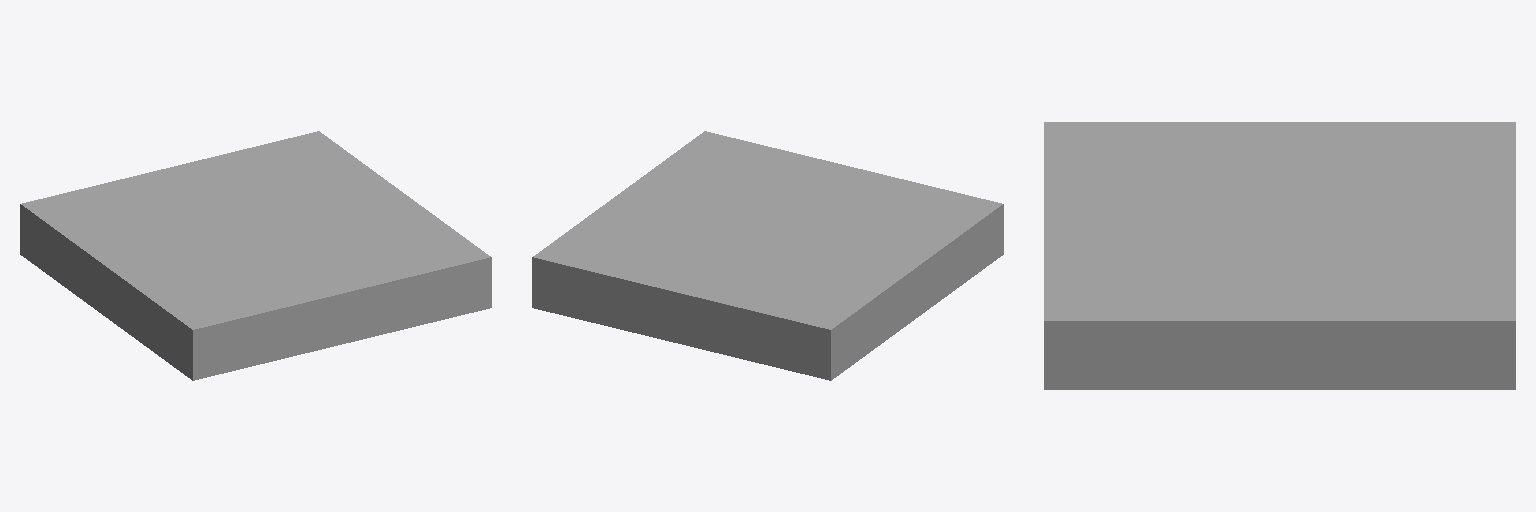
The robot description file, URDF, robot "mounting_plate":
<?xml version="1.0" ?>
<robot name="mounting_plate">
    <material name="aluminium">
        <color rgba="0.70 0.70 0.70 1"/>
    </material>

    <link name="base_link"/>

    <!--    Define the mounting plates for the robot arms-->
    <link name="mounting_plate_link">
        <visual>
            <origin xyz="0 0 0" rpy="0 0 0"/>
            <geometry>
                <box size="0.215 0.215 0.035"/>
            </geometry>
            <material name="aluminium"/>
        </visual>
        <collision>
            <origin xyz="0 0 0" rpy="0 0 0"/>
            <geometry>
                <box size="0.215 0.215 0.035"/>
            </geometry>
        </collision>
        <inertial>
            <mass value="1.0"/>
        </inertial>
    </link>

    <joint name="base_link_2_mounting_plate" type="fixed">
        <parent link="base_link"/>
        <child link="mounting_plate_link"/>
        <origin xyz="0 0 0.0175" rpy="0 0 0"/>
        # We also push out the origin to make that if we mount the plate, we are mounting it at the bottom
    </joint>

    <!--    Virtual frame -->
    <link name="plate_top_centre"/>

    <joint name="base_link_2_top_centre" type="fixed">
        <parent link="base_link"/>
        <child link="plate_top_centre"/>
        <origin xyz="0 0 0.0175" rpy="0 0 0"/>
    </joint>
</robot>

--- What the picture shows (computed from the rendered views, not written in the file) ---
The picture shows the robot from 3 angles, left to right: view 1: azimuth 30°, elevation 25°; view 2: azimuth 150°, elevation 25°; view 3: azimuth 270°, elevation 25°; orthographic projection.
Model mounting_plate with 3 links and 2 joints (2 fixed), rooted at base_link, posed every joint at zero.
Visible links, largest first — view 1: mounting_plate_link; view 2: mounting_plate_link; view 3: mounting_plate_link.
Boxes of the visible links, left/top/right/bottom form: mounting_plate_link: left=20, top=131, right=491, bottom=380; mounting_plate_link: left=532, top=131, right=1003, bottom=380; mounting_plate_link: left=1044, top=122, right=1515, bottom=389.
Size in the robot's own frame: 0.215 by 0.215 by 0.035 metres.
Geometry: primitives only (box / cylinder / sphere), no mesh files.